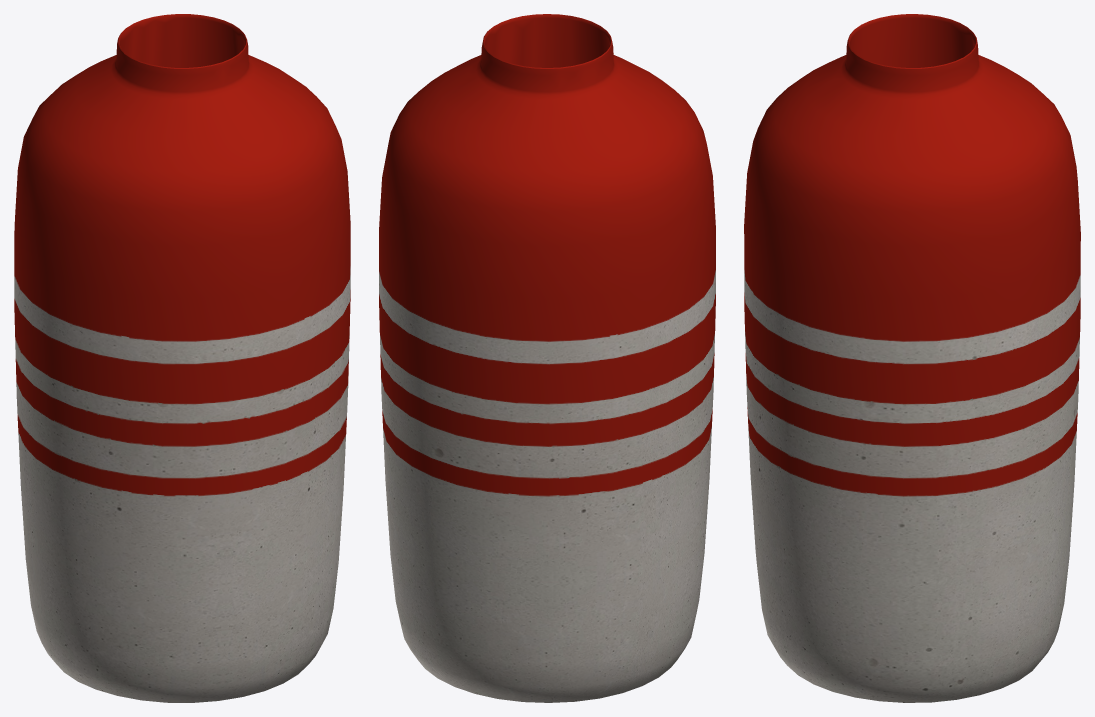
Rendered from Vase 1.FBX.
The picture shows the model from 3 angles, left to right: view 1: azimuth 30°, elevation 25°; view 2: azimuth 150°, elevation 25°; view 3: azimuth 270°, elevation 25°; orthographic projection.
Parts seen in each view (by area): view 1: vase 1; view 2: vase 1; view 3: vase 1.
Boxes of the visible parts, bbox=[...] form: vase 1: bbox=[14, 14, 350, 702]; vase 1: bbox=[379, 14, 715, 702]; vase 1: bbox=[744, 14, 1080, 702].
Bounding box in the file's own units: 13.41 × 26.63 × 13.41.
Materials: 1 (1 with a texture image).
